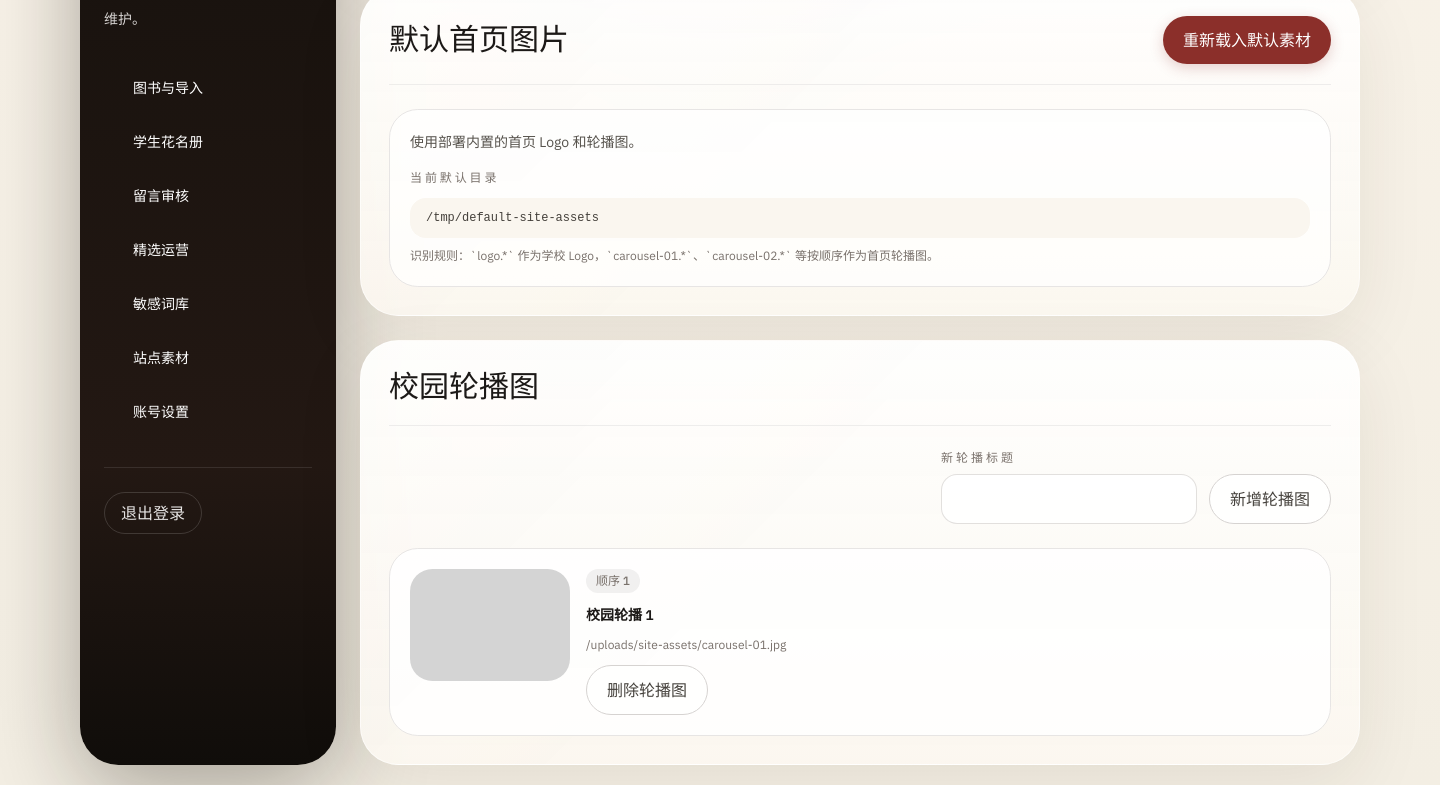
Test: AssetsPage › deletes a carousel asset and shows success feedback
(page scrolled)
Check: the text "校园轮播 1" is shown, box [586,606,654,624]
Click the button "删除轮播图": (647, 690) [586,665,708,715]
(page scrolled)
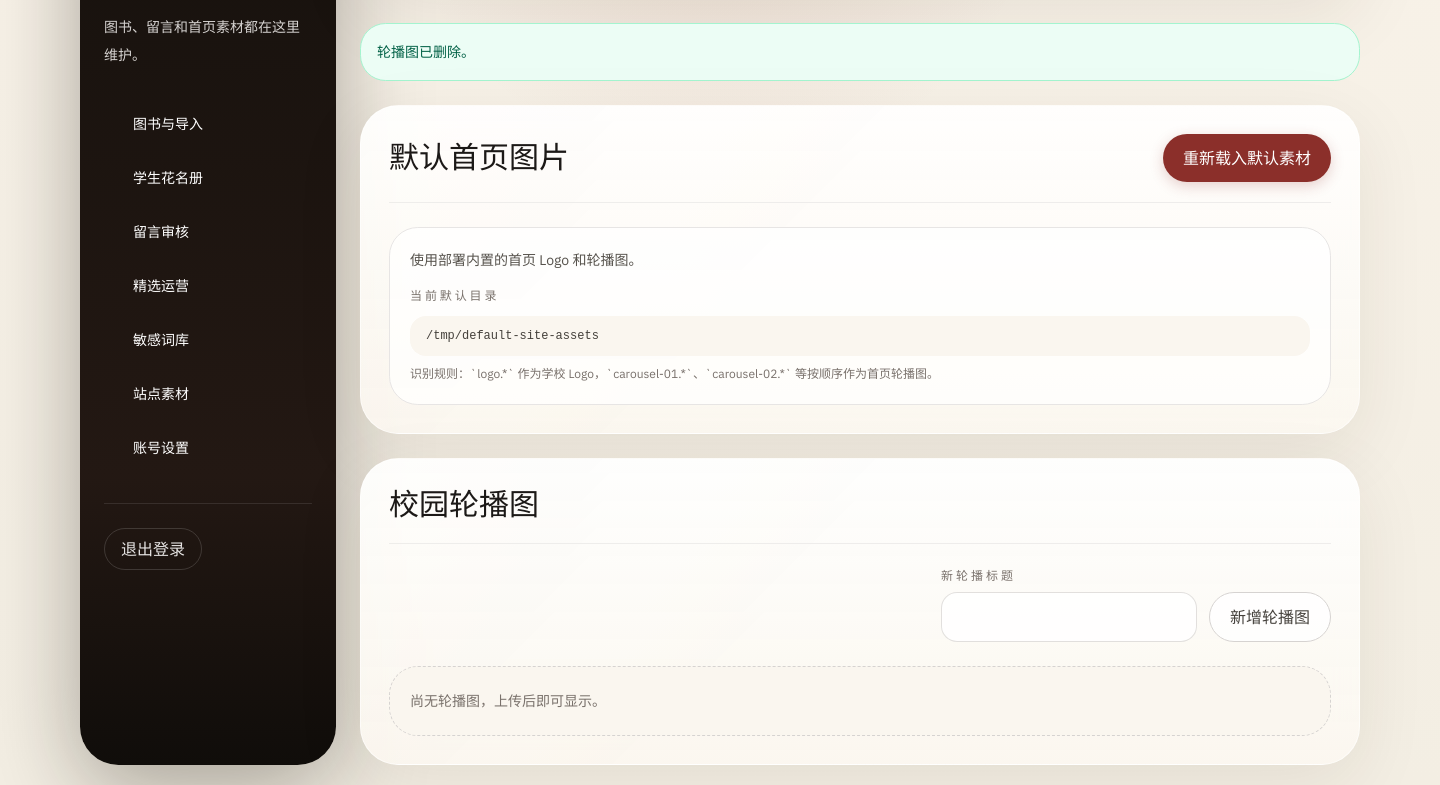
Check: the text "轮播图已删除。" is shown, box [360,23,1360,81]
Check: the text "尚无轮播图，上传后即可显示。" is shown, box [389,666,1331,736]
